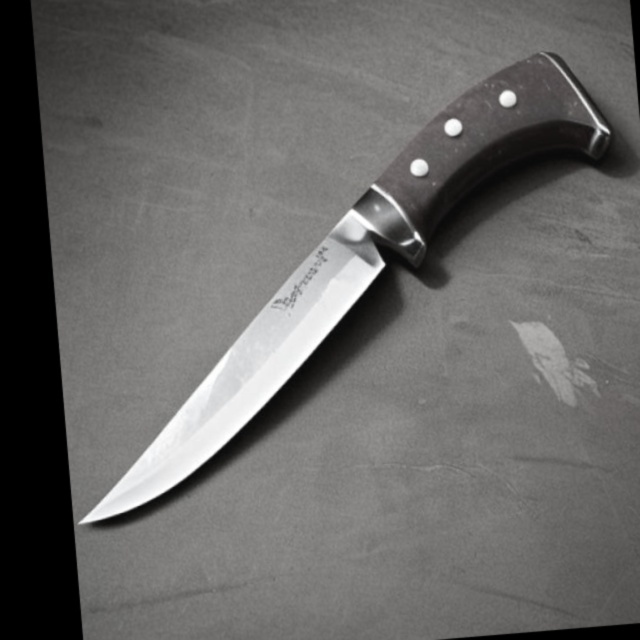Sharp-Object: (38, 38, 640, 552)
